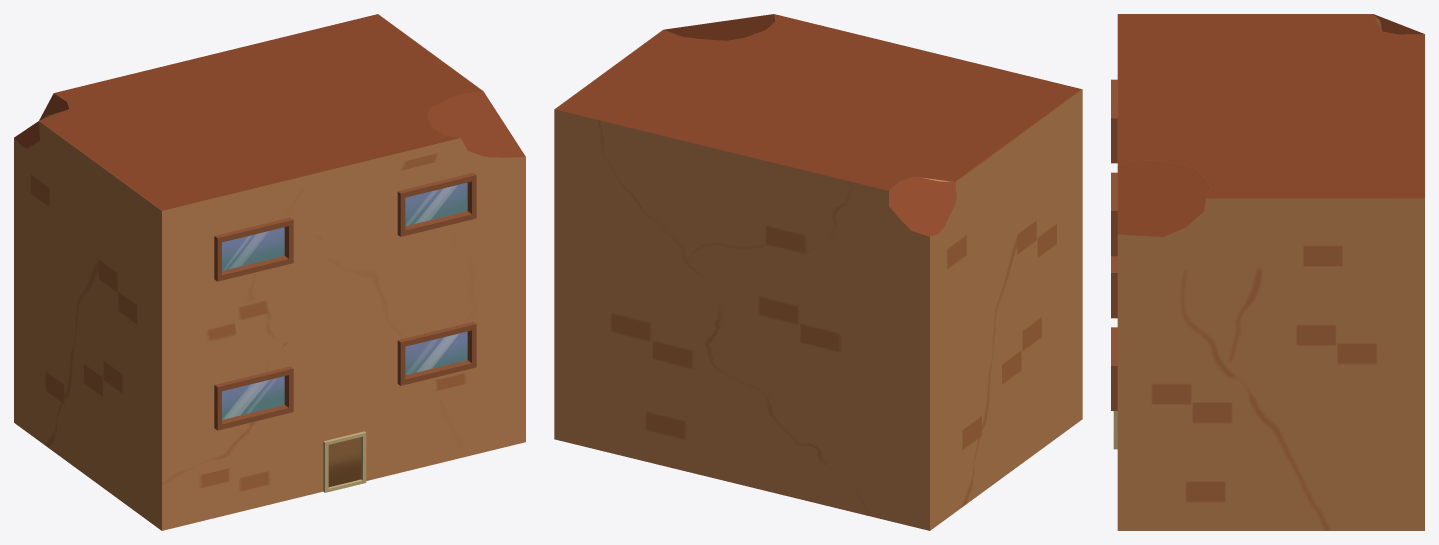
Rendered from Bulid2.fbx.
3 views of the same model, side by side, from view 1: azimuth 30°, elevation 25°; view 2: azimuth 150°, elevation 25°; view 3: azimuth 270°, elevation 25° (orthographic). The views are drawn at different scales.
Visible parts, largest first — view 1: Cube; view 2: Cube; view 3: Cube.
Boxes of the visible parts, x1,y1,x2,y2 form: Cube: [14, 14, 525, 530]; Cube: [554, 14, 1082, 530]; Cube: [1111, 14, 1424, 530].
Bounding box in the file's own units: 826 × 694 × 593.
1 material, 1 textured.
